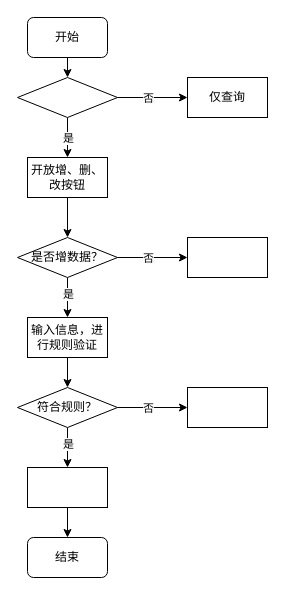
Some shapes in this 285 by 595 pixel diagram are drawn without their labels. The centre of each missing label's shape, as x and y in pixels:
"关闭弹窗" belongs at point 227,257.
"是否管理员？" belongs at point 67,97.
"添加成功" belongs at point 67,487.
"禁用确认按钮" belongs at point 227,407.
